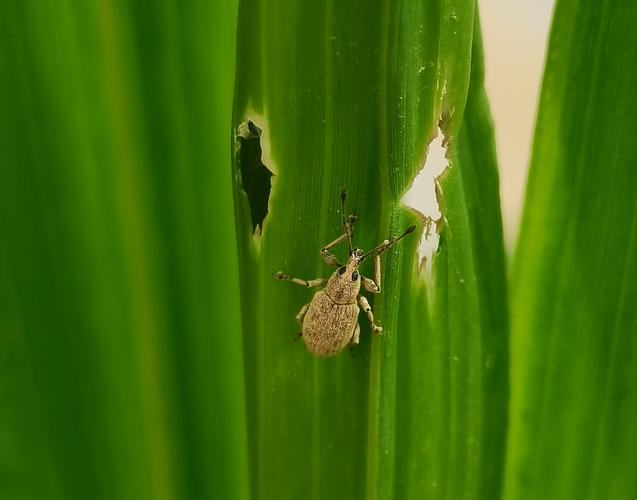Curculionidae: (273, 189, 416, 359)
